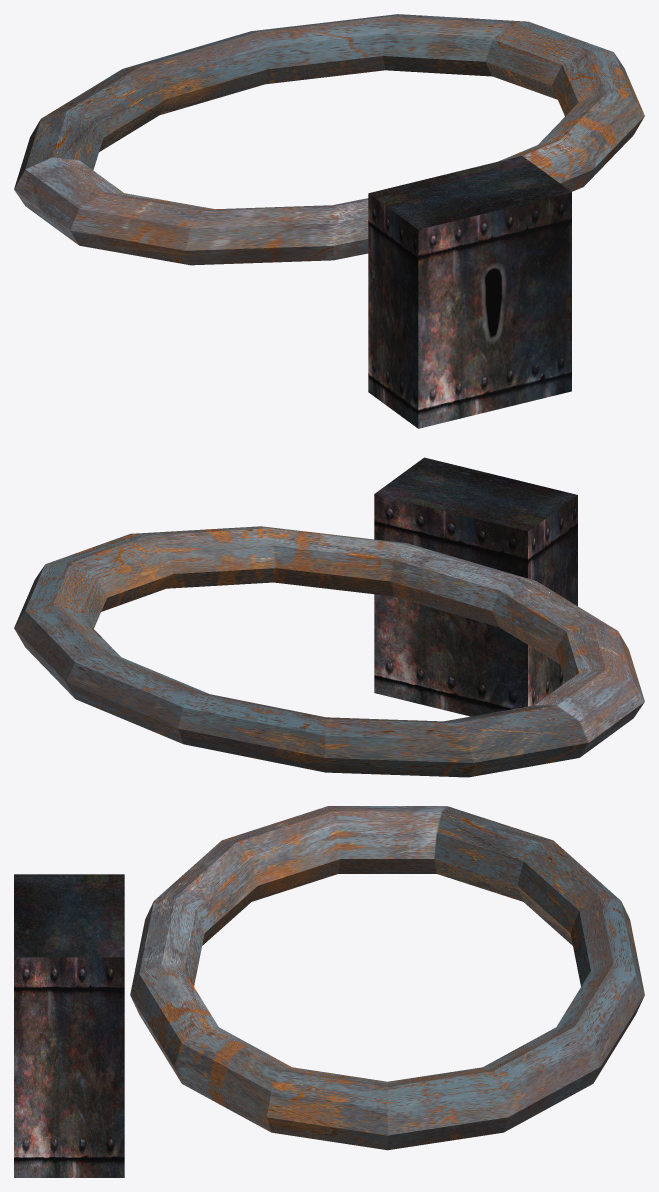
The model's file is LockZamok.dae.
3 views of the same model, one above another, from view 1: azimuth 30°, elevation 25°; view 2: azimuth 150°, elevation 25°; view 3: azimuth 270°, elevation 25° (orthographic). The views are drawn at different scales.
Parts seen in each view (by area): view 1: Cube, Cube.001; view 2: Cube, Cube.001; view 3: Cube, Cube.001.
Boxes of the visible parts, x1,y1,x2,y2 form: Cube: (14,14,644,265); Cube.001: (368,156,571,428); Cube: (14,526,644,777); Cube.001: (374,457,577,716); Cube: (130,806,644,1150); Cube.001: (14,874,124,1177).
Size of the model in its own units: 6.47 by 5.48 by 2.11.
3 materials, 3 textured.
